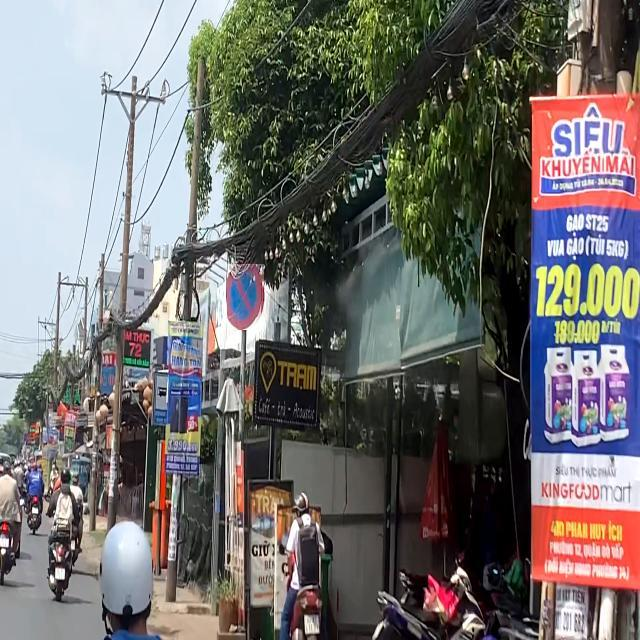P-131a: (227, 264, 264, 330)
